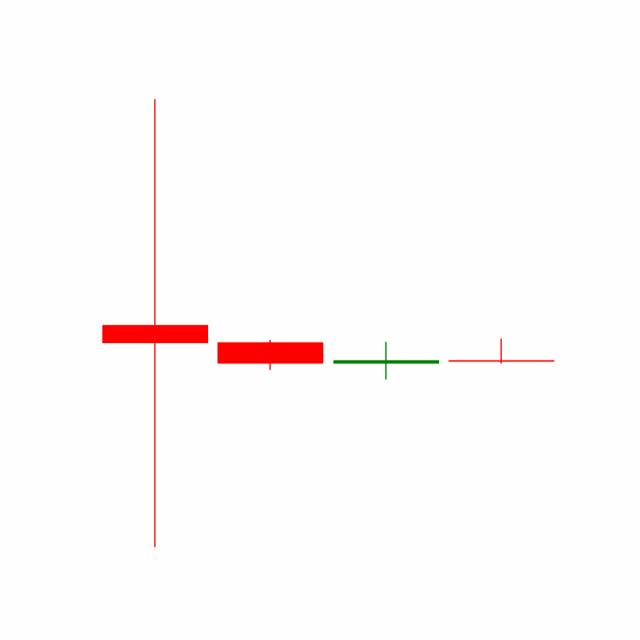Spinning Top: (328, 340, 444, 380)
